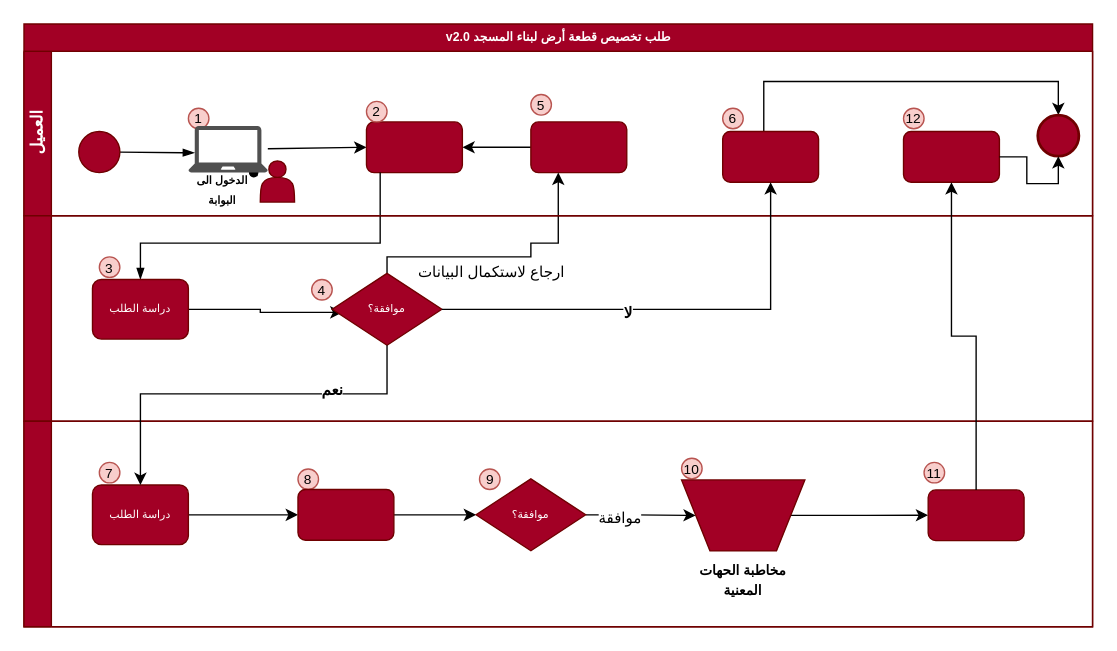
Image size: 1117x651. Some labels were removed from this diagram. The box of each missing label's shape, as (x1, y1, x2, y2) in pixels:
اخطار قسم علاقات المتبرعين: (927, 489, 1024, 541)
ارسال رسالة اعتذار: (721, 130, 819, 182)
ارسال رسالة موافقة: (902, 130, 999, 182)
استكمال البيانات و إعادة ارساله: (530, 121, 627, 173)
اغلاق: (1036, 113, 1080, 157)
الاجتماع مع العميل (خطوة اختيارية): (297, 488, 394, 540)
المهندسين: (23, 214, 1093, 421)
بداية: (77, 130, 120, 173)
تعبئة و نموذج و تقديم طلب (اختيار قطعة الأرض من الخريطة): (365, 121, 462, 173)
رئيس قسم الهندسة: (23, 420, 1093, 627)
